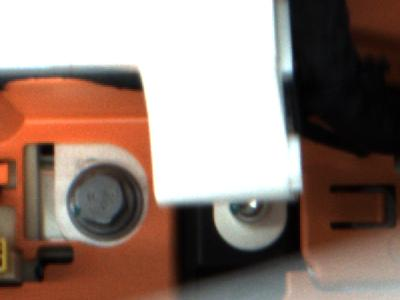nut_b: (67, 166, 144, 238)
